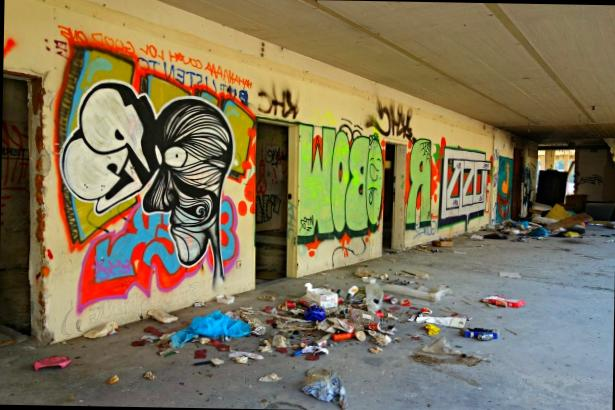graffiti: (50, 24, 256, 298), (295, 137, 491, 246), (253, 130, 289, 231), (372, 107, 420, 138), (492, 158, 514, 218), (260, 90, 296, 121), (521, 168, 535, 198), (577, 174, 604, 187)
trash: (157, 277, 468, 363), (484, 205, 590, 237), (300, 370, 346, 401), (460, 324, 502, 343), (481, 292, 520, 312), (82, 322, 120, 340), (401, 269, 430, 284), (354, 266, 387, 278), (144, 310, 174, 322), (258, 372, 280, 387), (38, 358, 68, 368), (200, 358, 225, 368), (144, 326, 164, 338), (432, 239, 452, 250), (128, 338, 146, 348), (461, 234, 480, 243), (142, 370, 156, 382), (108, 372, 118, 386), (193, 349, 208, 357)
